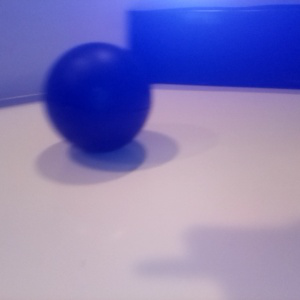dead_ball: (45, 41, 152, 151)
